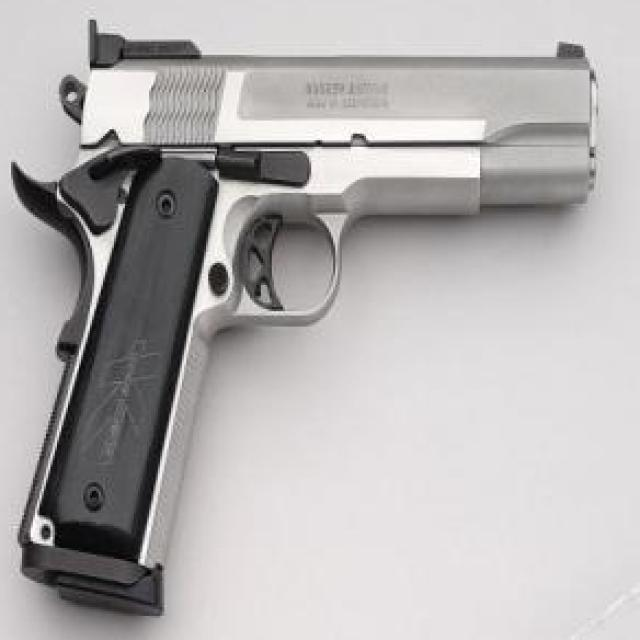pistol: (8, 29, 605, 602)
